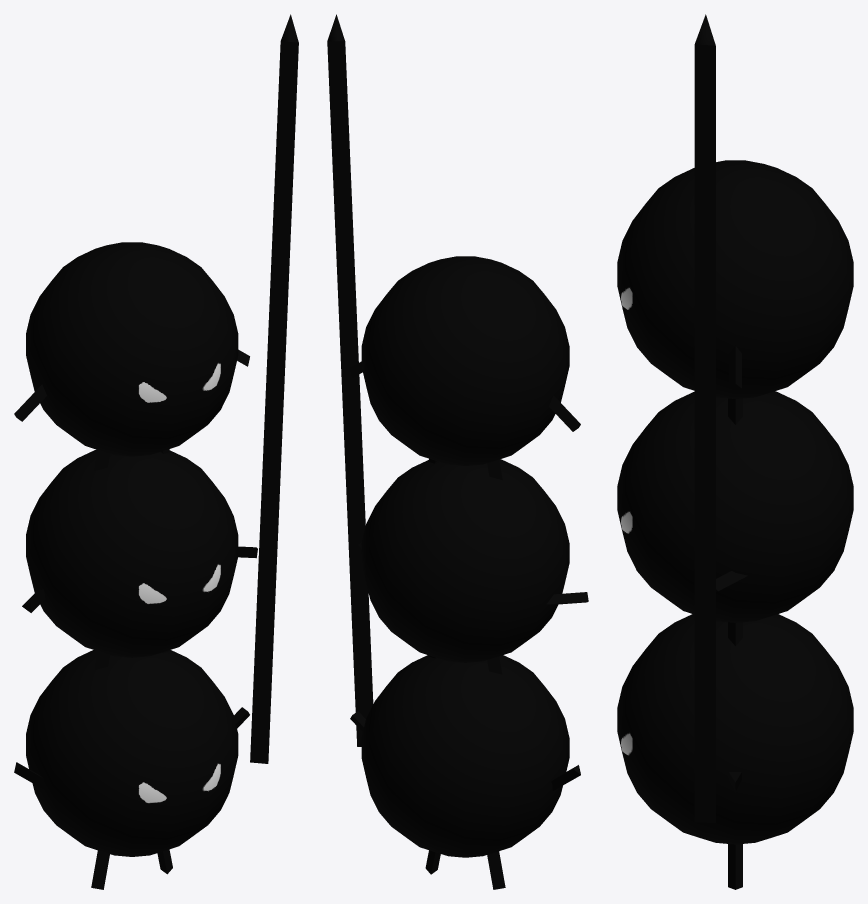
Rendered from enemy07.obj.
The picture shows the model from 3 angles, left to right: view 1: azimuth 30°, elevation 25°; view 2: azimuth 150°, elevation 25°; view 3: azimuth 270°, elevation 25°; orthographic projection. The views are drawn at different scales.
Visible parts, largest first — view 1: pasted__group1 group3 pasted__pSphere1, pasted__group1 group2 pasted__pSphere1, group1 pSphere1, pCylinder2, group1 pasted__pCylinder1, pasted__pCylinder1 pasted__group1 group3; view 2: pasted__group1 group3 pasted__pSphere1, pasted__group1 group2 pasted__pSphere1, group1 pSphere1, pCylinder2, group1 pasted__pCylinder1, pasted__pCylinder1 pasted__group1 group3, pCylinder1 group1; view 3: pasted__group1 group3 pasted__pSphere1, group1 pSphere1, pasted__group1 group2 pasted__pSphere1, pCylinder2, group1 pasted__pCylinder1, pasted__pCylinder1 pasted__group1 group3.
Boxes of the visible parts, bbox=[...] form: pasted__group1 group3 pasted__pSphere1: bbox=[26, 242, 238, 456]; pasted__group1 group2 pasted__pSphere1: bbox=[26, 449, 238, 657]; group1 pSphere1: bbox=[26, 650, 238, 856]; pCylinder2: bbox=[250, 14, 298, 763]; group1 pasted__pCylinder1: bbox=[91, 849, 172, 889]; pasted__pCylinder1 pasted__group1 group3: bbox=[14, 349, 249, 421]; pasted__group1 group3 pasted__pSphere1: bbox=[361, 256, 569, 465]; pasted__group1 group2 pasted__pSphere1: bbox=[361, 459, 569, 662]; group1 pSphere1: bbox=[361, 655, 569, 857]; pCylinder2: bbox=[327, 14, 373, 746]; group1 pasted__pCylinder1: bbox=[425, 850, 505, 889]; pasted__pCylinder1 pasted__group1 group3: bbox=[350, 361, 580, 431]; pCylinder1 group1: bbox=[350, 711, 580, 790]; pasted__group1 group3 pasted__pSphere1: bbox=[617, 160, 853, 398]; group1 pSphere1: bbox=[617, 614, 853, 844]; pasted__group1 group2 pasted__pSphere1: bbox=[617, 391, 853, 622]; pCylinder2: bbox=[694, 14, 715, 823]; group1 pasted__pCylinder1: bbox=[728, 844, 742, 889]; pasted__pCylinder1 pasted__group1 group3: bbox=[729, 345, 741, 388].
Bounding box in the file's own units: 2.04 × 6.1 × 1.4.
2 materials, 1 textured.
